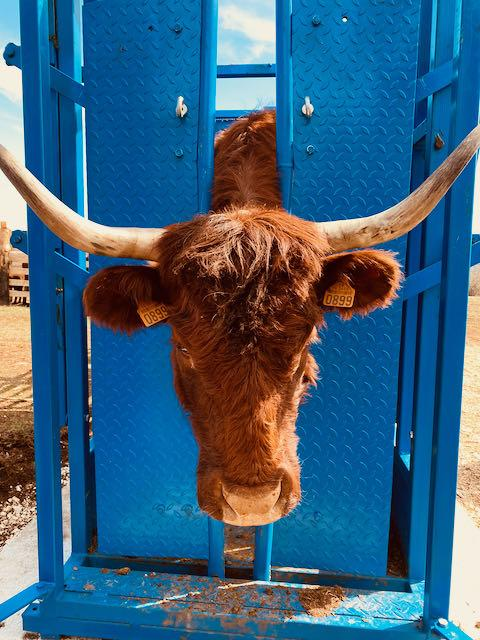muzzles: (189, 477, 309, 529)
